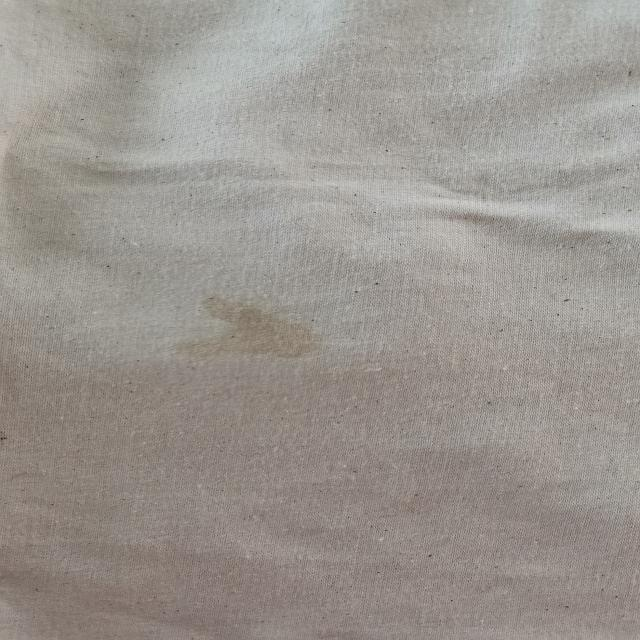taaaches: (181, 288, 332, 373)
